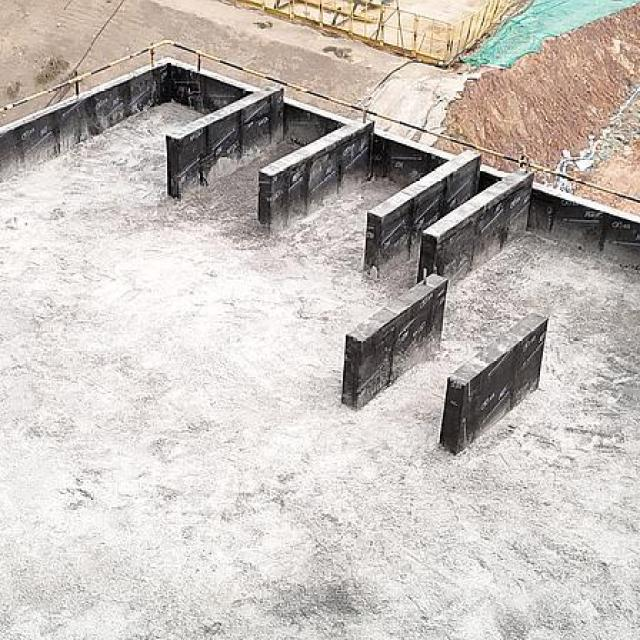edge_guardrail: (0, 37, 640, 204)
